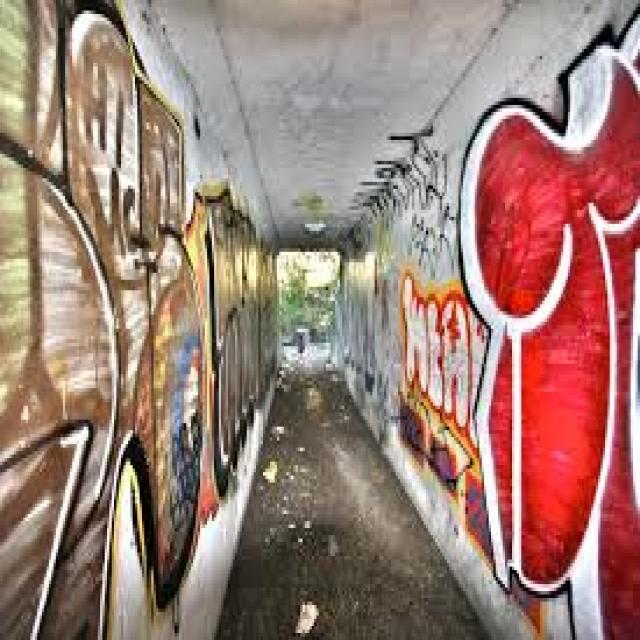-: (3, 0, 281, 640), (459, 6, 640, 640), (393, 268, 544, 640), (358, 122, 457, 264), (330, 292, 380, 393)
